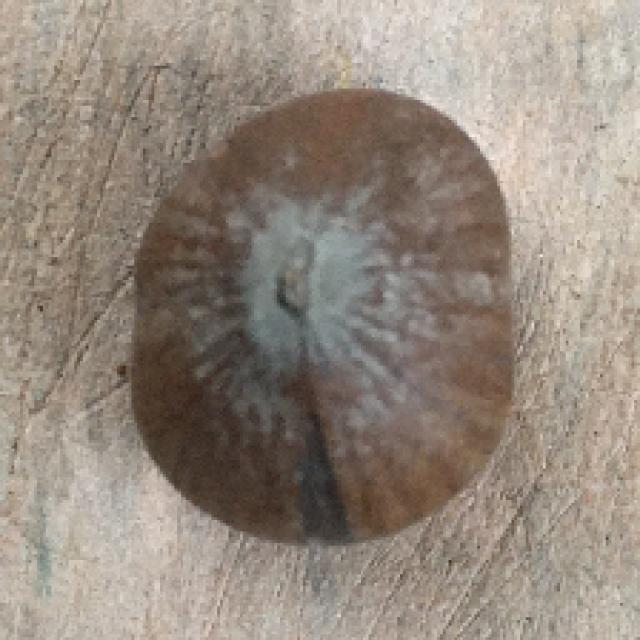qualityHazelnut: (132, 82, 524, 545)
